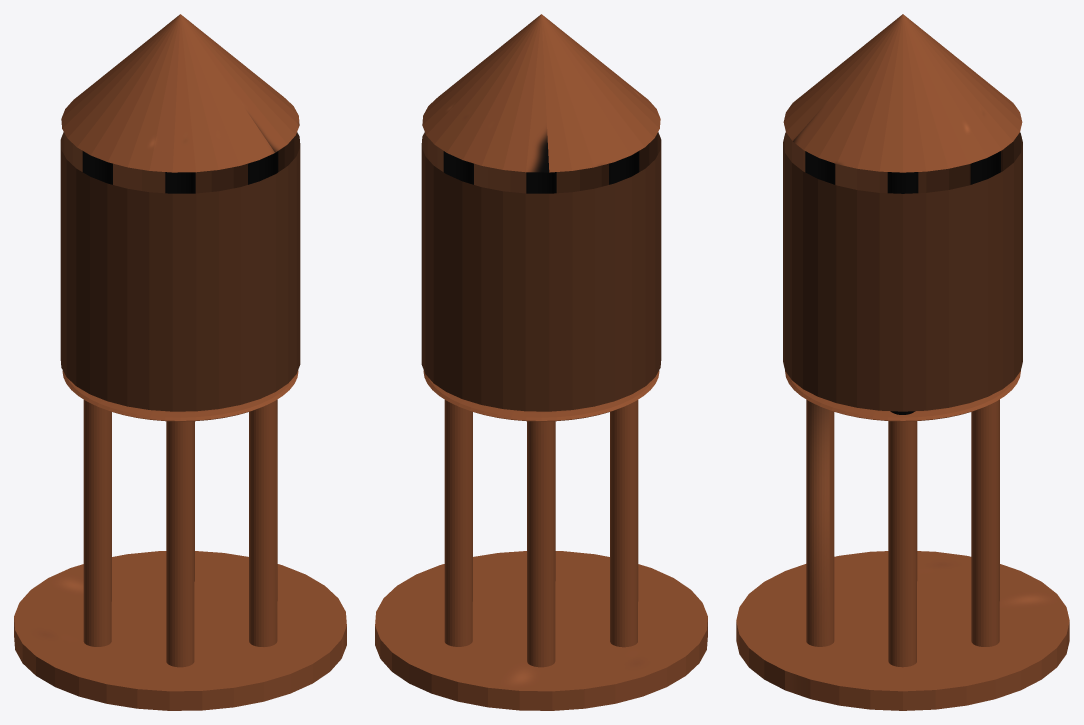
File: haupthaus.fbx
3 views of the same model, side by side, from view 1: azimuth 30°, elevation 25°; view 2: azimuth 150°, elevation 25°; view 3: azimuth 270°, elevation 25° (orthographic).
Visible parts, largest first — view 1: untere Ebene, Wand, Dach, Zwischenplattform, obere Ebene; view 2: untere Ebene, Wand, Dach, Zwischenplattform, obere Ebene; view 3: untere Ebene, Wand, Dach, Zwischenplattform, obere Ebene.
Part boxes in pixels (x1,y1,x2,y2): untere Ebene: [14, 399, 346, 710]; Wand: [60, 132, 300, 411]; Dach: [61, 14, 299, 172]; Zwischenplattform: [62, 370, 298, 421]; obere Ebene: [82, 151, 278, 193]; untere Ebene: [375, 400, 707, 710]; Wand: [421, 132, 661, 411]; Dach: [422, 14, 660, 172]; Zwischenplattform: [423, 370, 659, 421]; obere Ebene: [443, 151, 639, 193]; untere Ebene: [736, 399, 1069, 710]; Wand: [783, 132, 1022, 411]; Dach: [783, 14, 1022, 172]; Zwischenplattform: [785, 371, 1020, 421]; obere Ebene: [805, 151, 1000, 414].
Bounding box in the file's own units: 2.79 × 2.79 × 5.79.
1 material, 1 textured.
